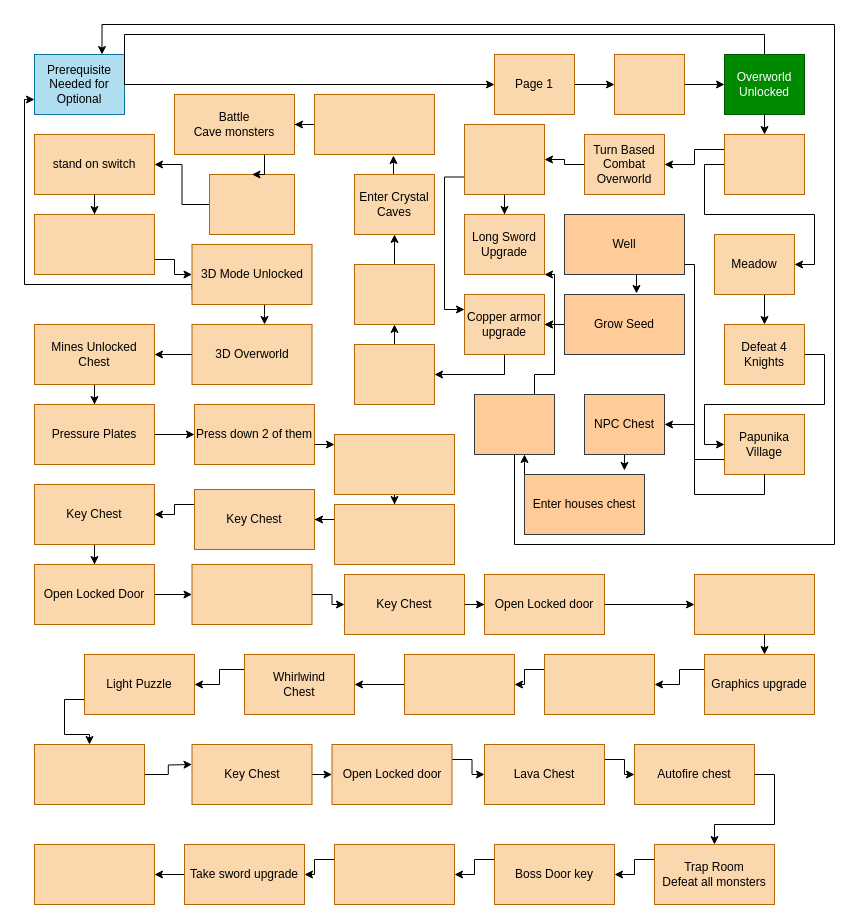
This 860x922 diagram has some shape labels left out. Here are the shapes that lost their labels. From the top down, the centre of each, then its label:
At [649,84]: "Exit Forest".
At [374,124]: "Cave monsters".
At [504,159]: "Earn money by fighting random overworld monsters".
At [764,164]: "Autosaves".
At [251,204]: "EXP points".
At [94,244]: "Touch Crystal Trigger Boss Battle".
At [394,294]: "Forced fight".
At [394,374]: "Papunika exit open".
At [514,424]: "Merchant chest".
At [394,464]: "Red Wizard".
At [394,534]: "Trap Room Chest".
At [251,594]: "Skeleton chest".
At [754,604]: "Pushable object Chest".
At [459,684]: "Push monster into hoe".
At [599,684]: "Hole Chest".
At [89,774]: "Solve the puzzle".
At [94,874]: "3D Fights".
At [394,874]: "Defeat Boss".
